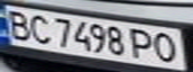4: (69, 19, 90, 52)
7: (51, 16, 75, 48)
8: (106, 24, 130, 56)
9: (87, 21, 109, 54)
B: (3, 7, 33, 40)
C: (27, 11, 54, 44)
O: (151, 30, 184, 64)
P: (127, 26, 160, 61)
